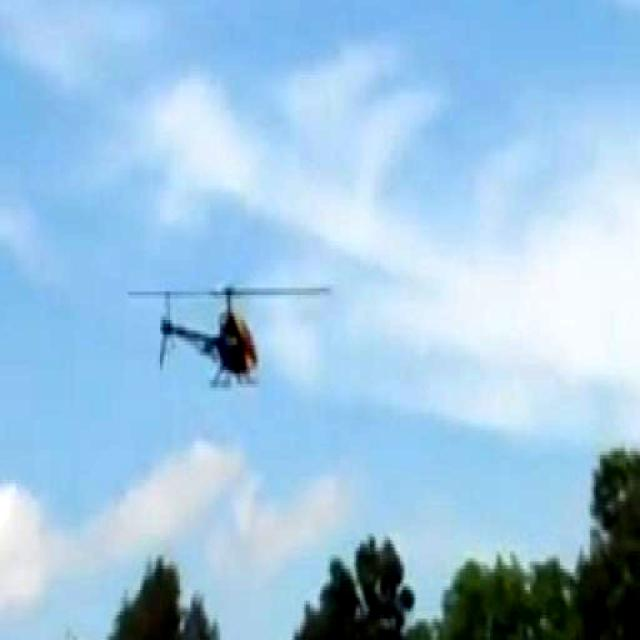drone: (131, 266, 335, 399)
